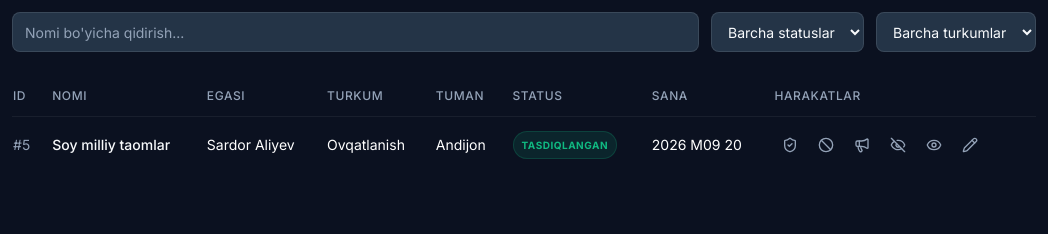
Test case: AdminBusinessesView — business operations › lets a SUPER_ADMIN hide a listing after confirmation
Expected: the text "Soy milliy taomlar" is shown, [52, 135, 190, 155]
Click the button named "Yashirish": (898, 145) [882, 129, 914, 161]
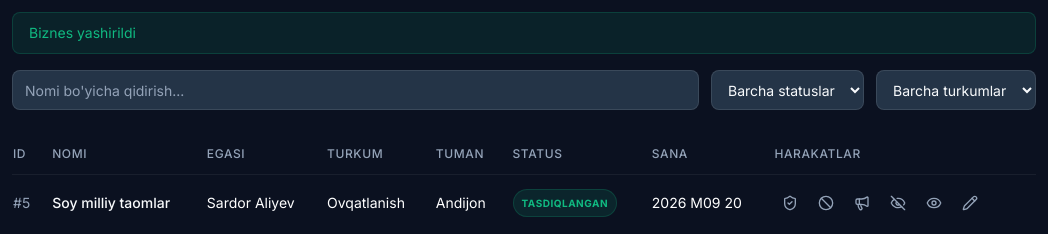
Result: the text "Biznes yashirildi" is shown at [12, 12, 1036, 54]
